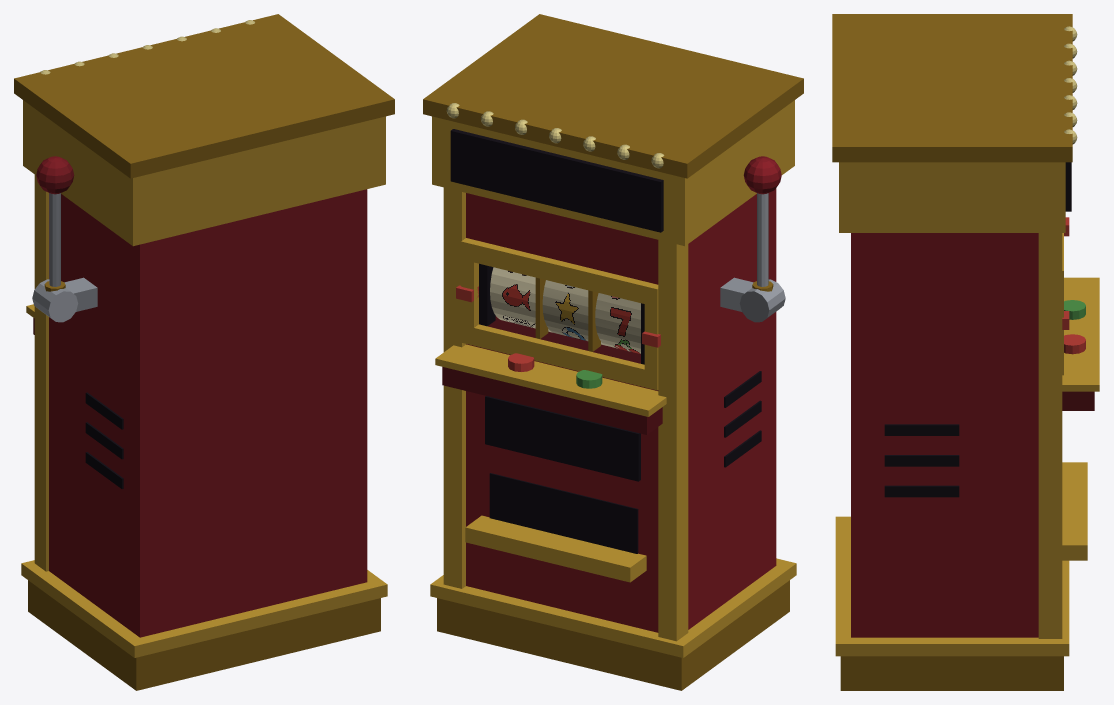
File: slot_machine.glb
The picture shows the model from 3 angles, left to right: view 1: azimuth 30°, elevation 25°; view 2: azimuth 150°, elevation 25°; view 3: azimuth 270°, elevation 25°; orthographic projection. The views are drawn at different scales.
Parts seen in each view (by area): view 1: Cabinet, Lever; view 2: Cabinet, Lever, Reel2, Reel1, Reel3; view 3: Cabinet.
Boxes of the visible parts, x1=… form: Cabinet: x1=14, y1=14, x2=394, y2=690; Lever: x1=36, y1=156, x2=74, y2=291; Cabinet: x1=423, y1=14, x2=803, y2=690; Lever: x1=743, y1=156, x2=781, y2=291; Reel2: x1=542, y1=280, x2=604, y2=345; Reel1: x1=490, y1=267, x2=552, y2=332; Reel3: x1=595, y1=293, x2=640, y2=353; Cabinet: x1=832, y1=14, x2=1099, y2=690.
Size of the model in its own units: 1.05 by 1.8 by 0.79.
2 materials, 1 textured.
